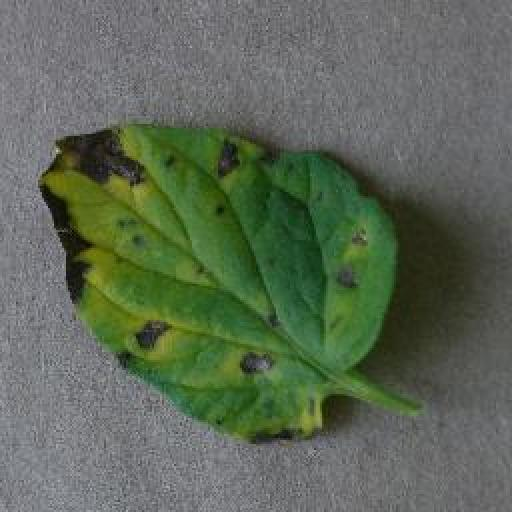Early Blight: (42, 120, 399, 444)
